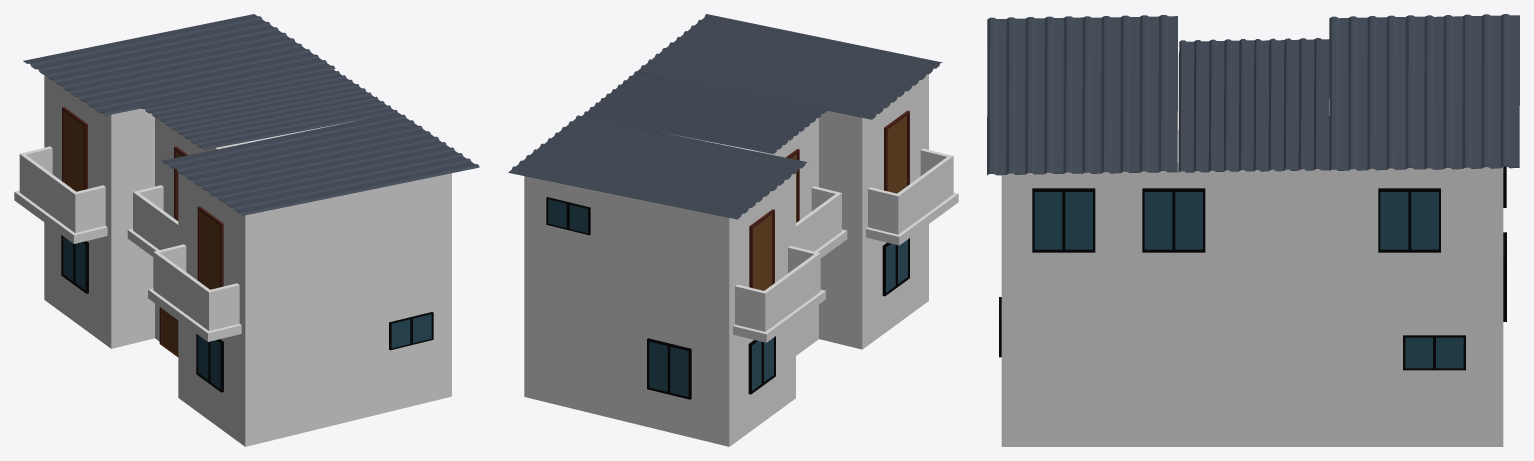
The model's file is Slum 9.fbx.
The picture shows the model from 3 angles, left to right: view 1: azimuth 30°, elevation 25°; view 2: azimuth 150°, elevation 25°; view 3: azimuth 270°, elevation 25°; orthographic projection. The views are drawn at different scales.
Visible parts, largest first — view 1: Roof.009, 1st Floor.009, 1st Floor.008, 1st Floor.017, 1st Floor.016, Blacony.003, Blacony, Blacony.002, Door.014, Door.013, Window 2.018, Window 1.025 (+2 smaller); view 2: Roof.009, 1st Floor.009, 1st Floor.008, 1st Floor.016, 1st Floor.017, Blacony.003, Blacony, Blacony.002, Window 1.023, Door.014, Door.013, Window 1.021 (+2 smaller); view 3: Roof.009, 1st Floor.016, 1st Floor.017, Window 1.027, Window 1.028, Window 1.026, Window 2.019.
Part boxes in pixels (box(x1,y1,x2,y2)): Roof.009: box(23, 14, 479, 215); 1st Floor.009: box(111, 108, 451, 336); 1st Floor.008: box(111, 234, 451, 446); 1st Floor.017: box(44, 74, 245, 335); 1st Floor.016: box(44, 222, 245, 446); Blacony.003: box(148, 244, 241, 341); Blacony: box(14, 146, 107, 243); Blacony.002: box(127, 185, 178, 256); Door.014: box(197, 206, 223, 289); Door.013: box(62, 107, 87, 191); Window 2.018: box(389, 312, 433, 350); Window 1.025: box(196, 334, 223, 392); Roof.009: box(508, 14, 942, 219); 1st Floor.009: box(524, 110, 862, 336); 1st Floor.008: box(524, 236, 862, 446); 1st Floor.016: box(729, 224, 928, 446); 1st Floor.017: box(729, 74, 928, 336); Blacony.003: box(866, 148, 958, 245); Blacony: box(733, 246, 825, 342); Blacony.002: box(796, 186, 847, 258); Window 1.023: box(647, 338, 691, 399); Door.014: box(884, 110, 909, 193); Door.013: box(749, 209, 774, 290); Window 1.021: box(748, 336, 775, 394); Roof.009: box(987, 14, 1519, 175); 1st Floor.016: box(1001, 308, 1503, 446); 1st Floor.017: box(1001, 163, 1503, 308); Window 1.027: box(1032, 188, 1095, 252); Window 1.028: box(1142, 188, 1205, 252); Window 1.026: box(1378, 188, 1440, 252); Window 2.019: box(1403, 335, 1465, 370).
Bounding box in the file's own units: 702 × 613 × 990.
